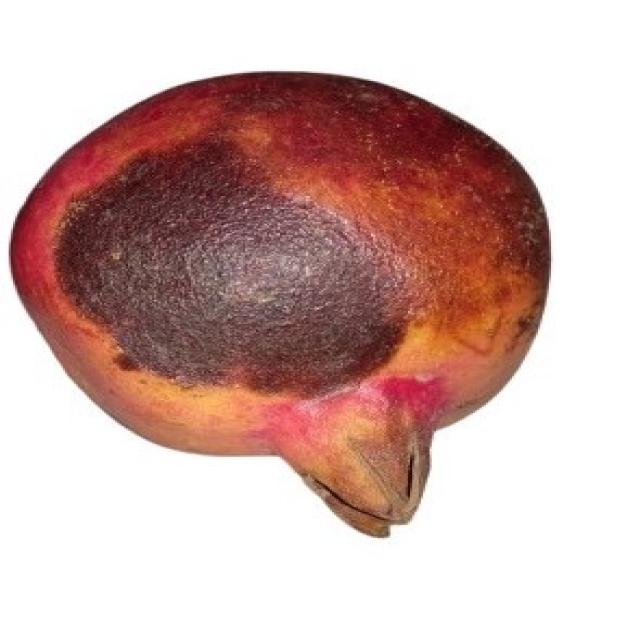Rotten: (12, 65, 562, 542)
